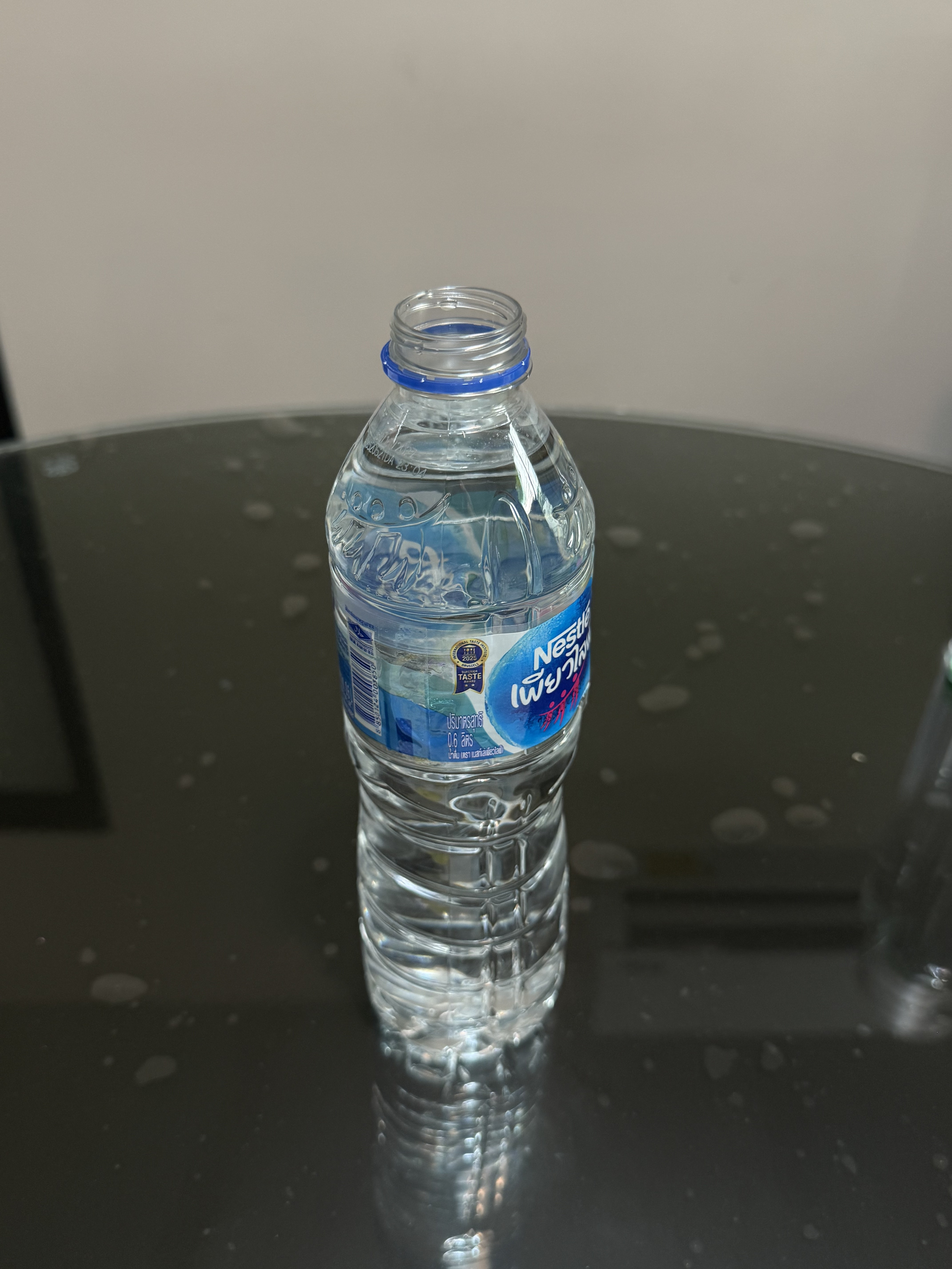no_cap: (376, 281, 536, 398)
